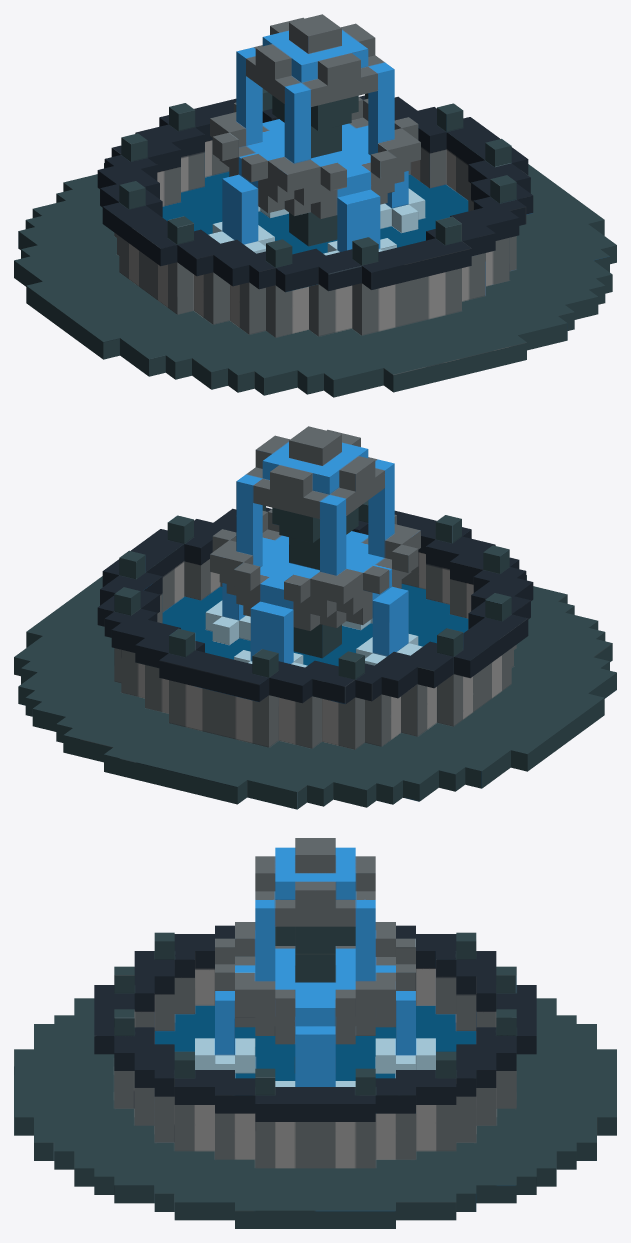
File: fountain_overtile.glb
The picture shows the model from 3 angles, top to bottom: view 1: azimuth 30°, elevation 25°; view 2: azimuth 150°, elevation 25°; view 3: azimuth 270°, elevation 25°; orthographic projection. The views are drawn at different scales.
Parts seen in each view (by area): view 1: fountain_overtile; view 2: fountain_overtile; view 3: fountain_overtile.
Part boxes in pixels (<box>): fountain_overtile: <box>14,14,616,397</box>; fountain_overtile: <box>14,426,616,809</box>; fountain_overtile: <box>14,838,616,1228</box>.
Bounding box in the file's own units: 3 × 1.4 × 3.
1 material, 1 textured.
